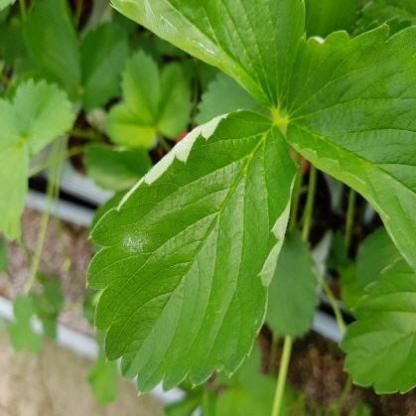Strawberry_Powdery_Mildew_Leaf: (85, 108, 299, 394)
